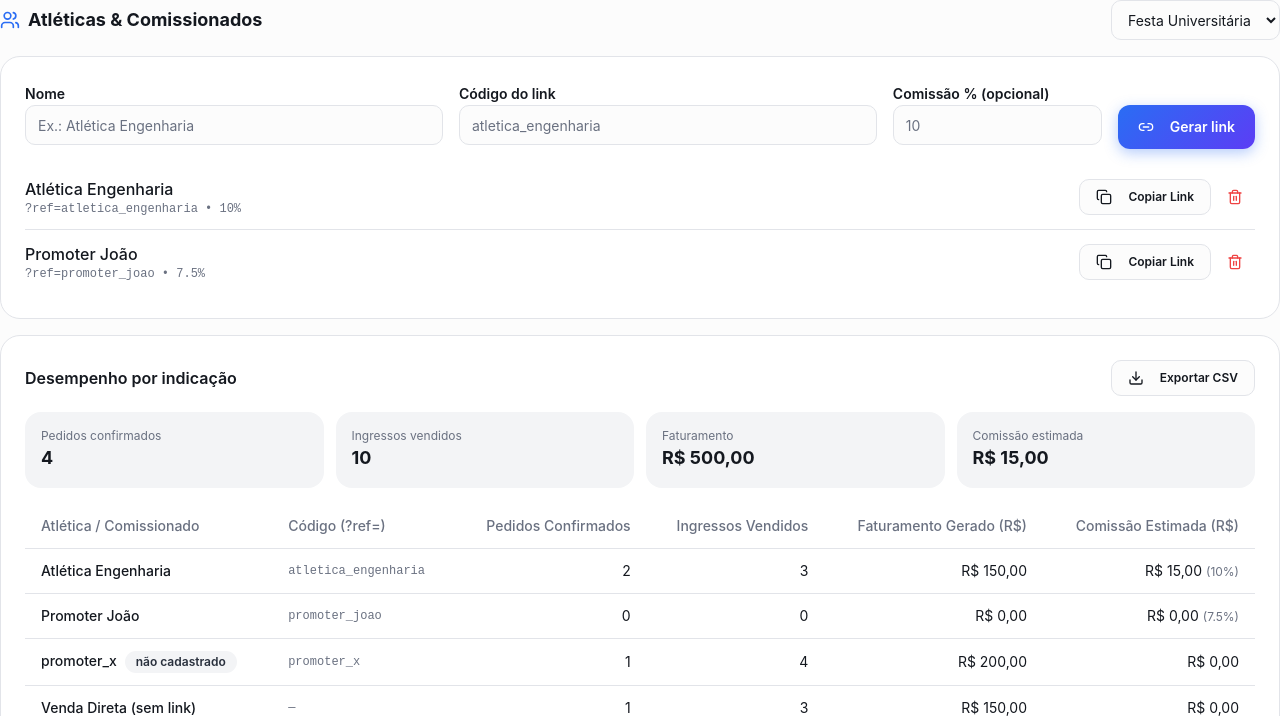
Test case: Atléticas & Comissionados — gerador de link › campos vazios: erros inline em pt-BR, foco no primeiro campo e nenhum INSERT
Click the button "Gerar link" at x=1186, y=127, box [1118,105,1255,149]
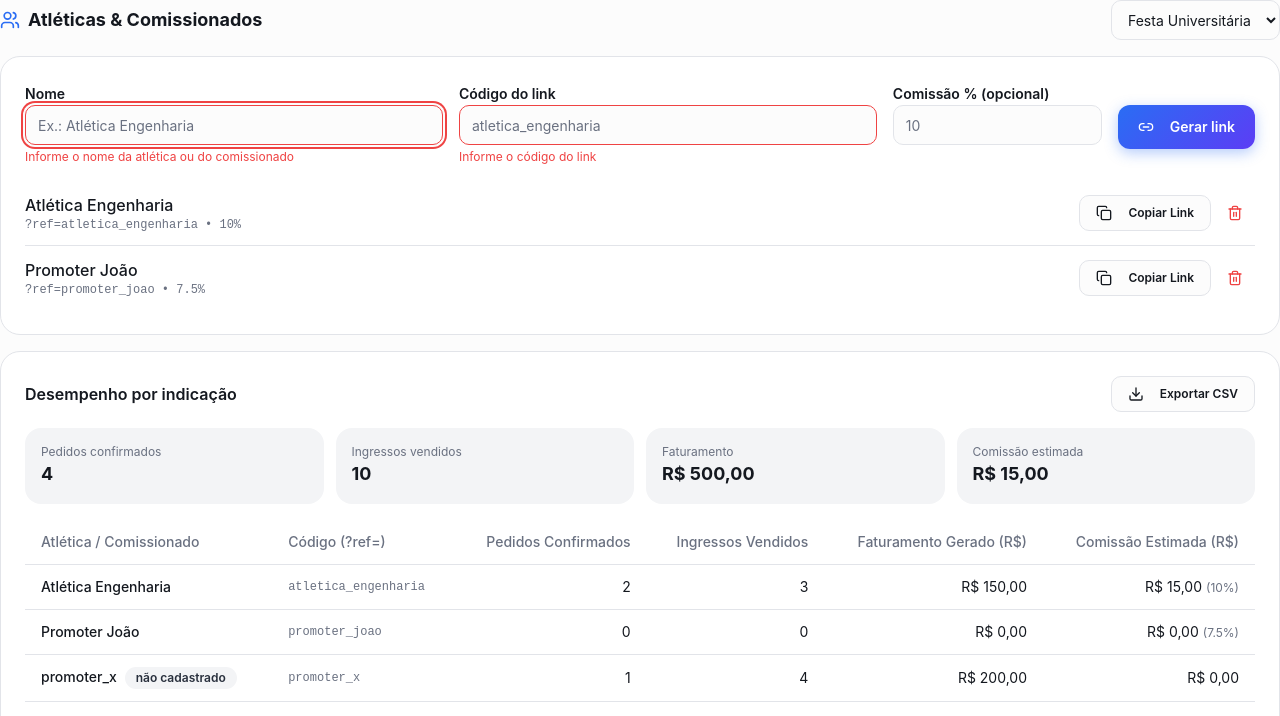
Expected: the text "Informe o nome da atlética ou do comissionado" is shown, [25,149,294,164]
Expected: the text "Informe o código do link" is shown, [459,149,596,164]
